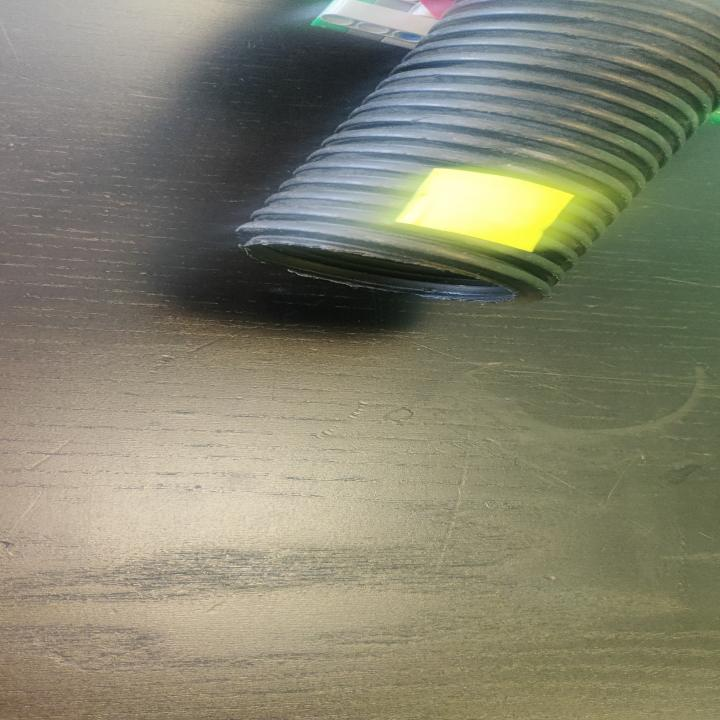robot-front: (252, 2, 716, 295)
